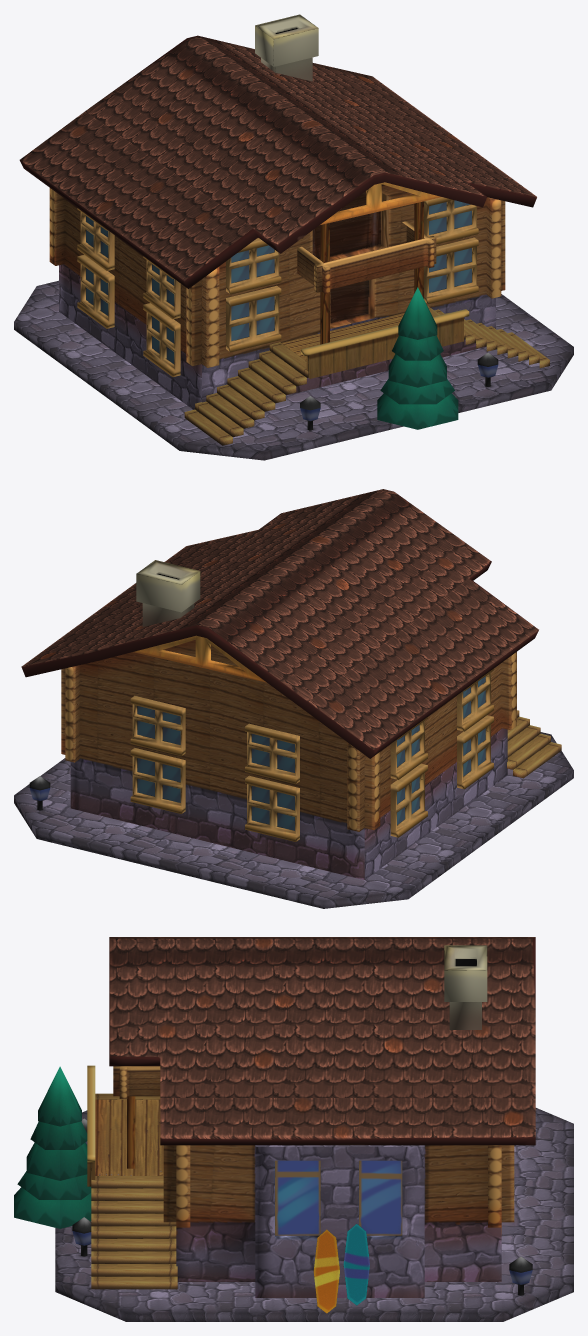
3 renders of one model, top to bottom at view 1: azimuth 30°, elevation 25°; view 2: azimuth 150°, elevation 25°; view 3: azimuth 270°, elevation 25°, orthographic. The views are drawn at different scales.
Visible parts, largest first — view 1: Haus2; view 2: Haus2; view 3: Haus2.
Boxes of the visible parts, x1,y1,x2,y2 form: Haus2: (14,14,573,460); Haus2: (14,489,573,908); Haus2: (14,937,573,1321).
Size of the model in its own units: 25.9 by 15.79 by 27.88.
Materials: 2 (2 with a texture image).
